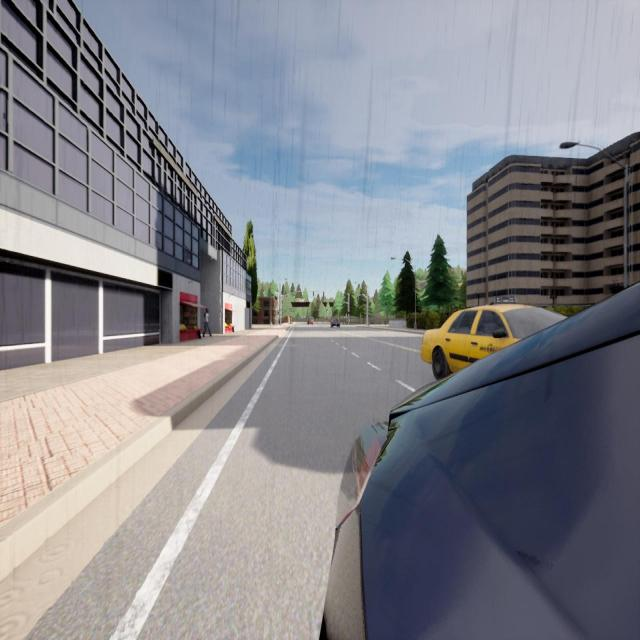Pedestrian: (202, 307, 212, 337)
Vehicle: (324, 283, 640, 638), (421, 304, 568, 380), (331, 318, 340, 328), (308, 317, 314, 324)
traffic_light: (300, 292, 302, 296), (313, 292, 314, 296), (323, 292, 324, 296)
